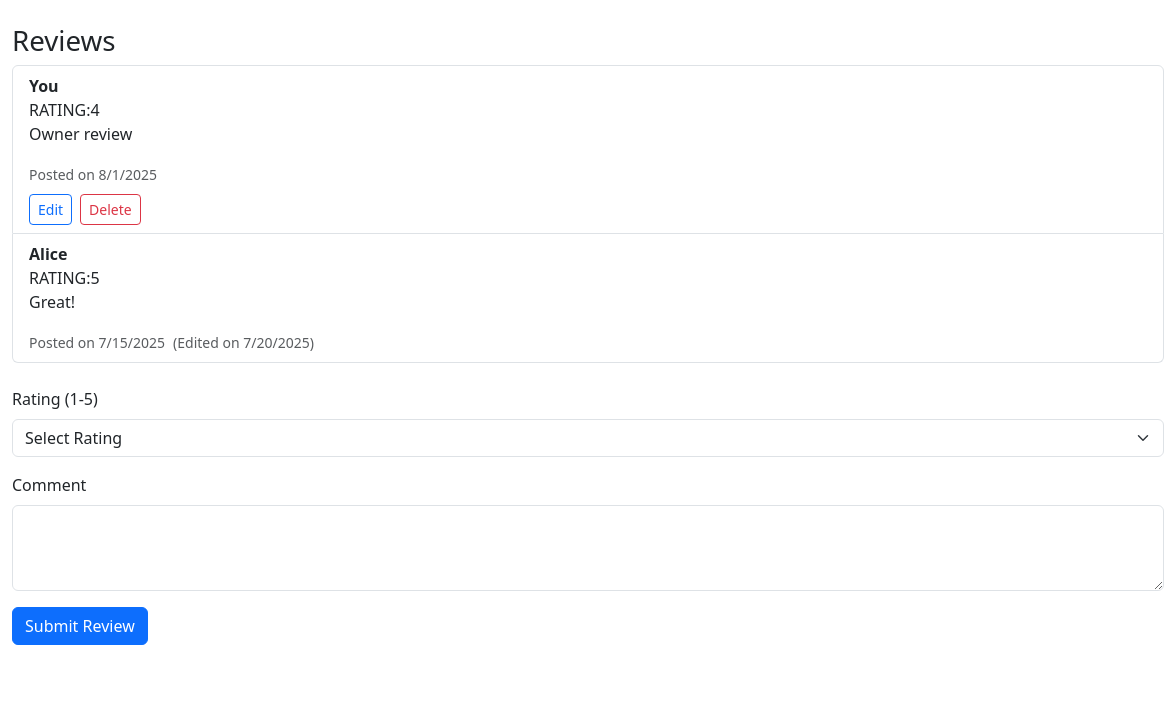
Test case: <ProductReviews /> › can delete own review and removes it from the list without refetch
This screenshot has width=1176, height=720.
Click the button "Delete": point(110, 210) [80,194,141,225]
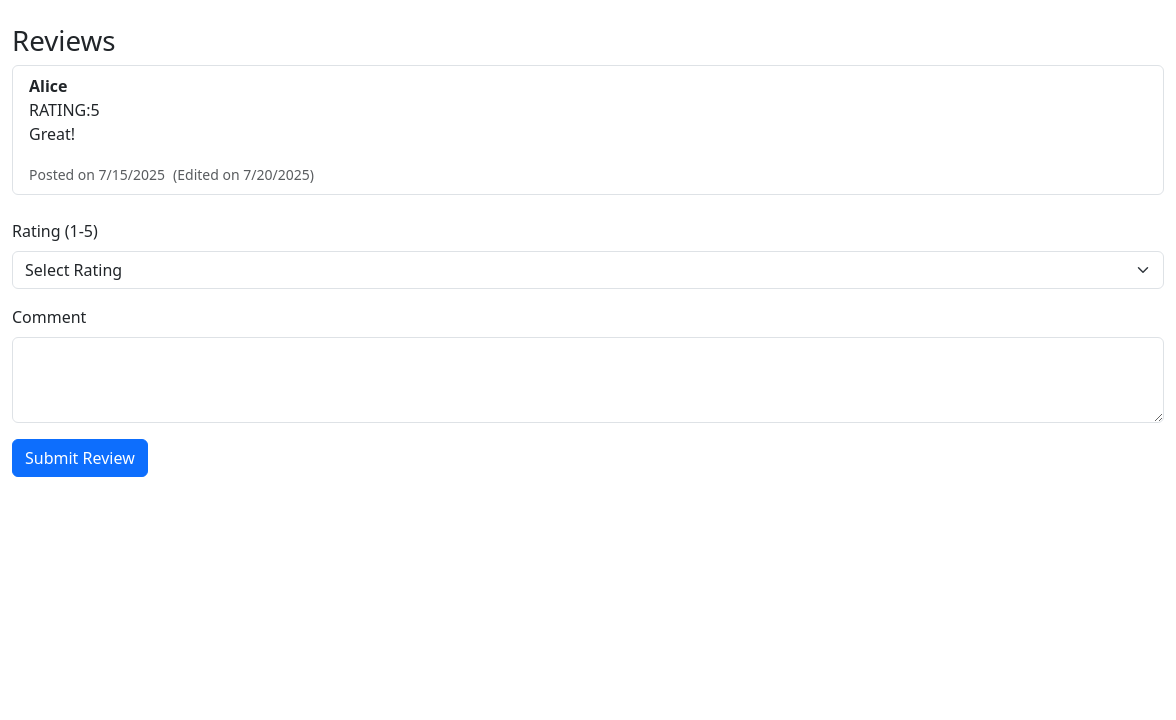
Expected: the text "Owner review" is gone
